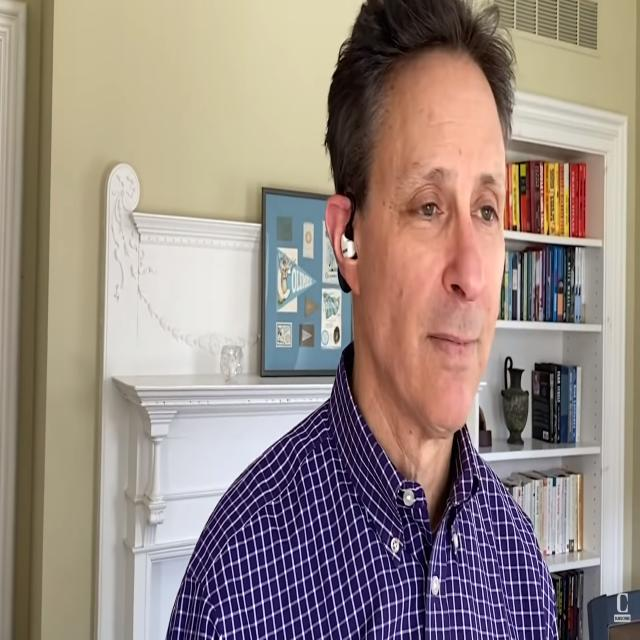airpods: (335, 187, 359, 296)
